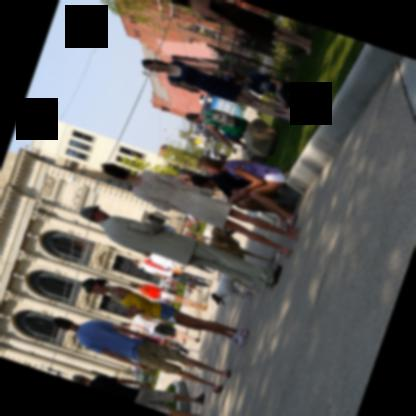backpack: (212, 112, 238, 127), (144, 258, 167, 270)
handbag: (147, 289, 172, 301), (158, 287, 177, 294)
